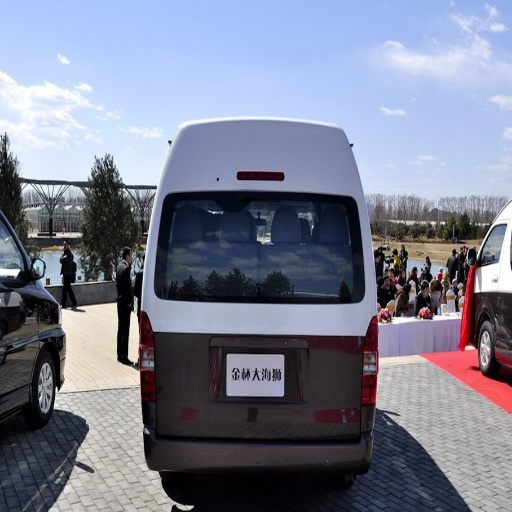back_bumper: (147, 421, 371, 474)
trunk: (151, 301, 370, 439)
